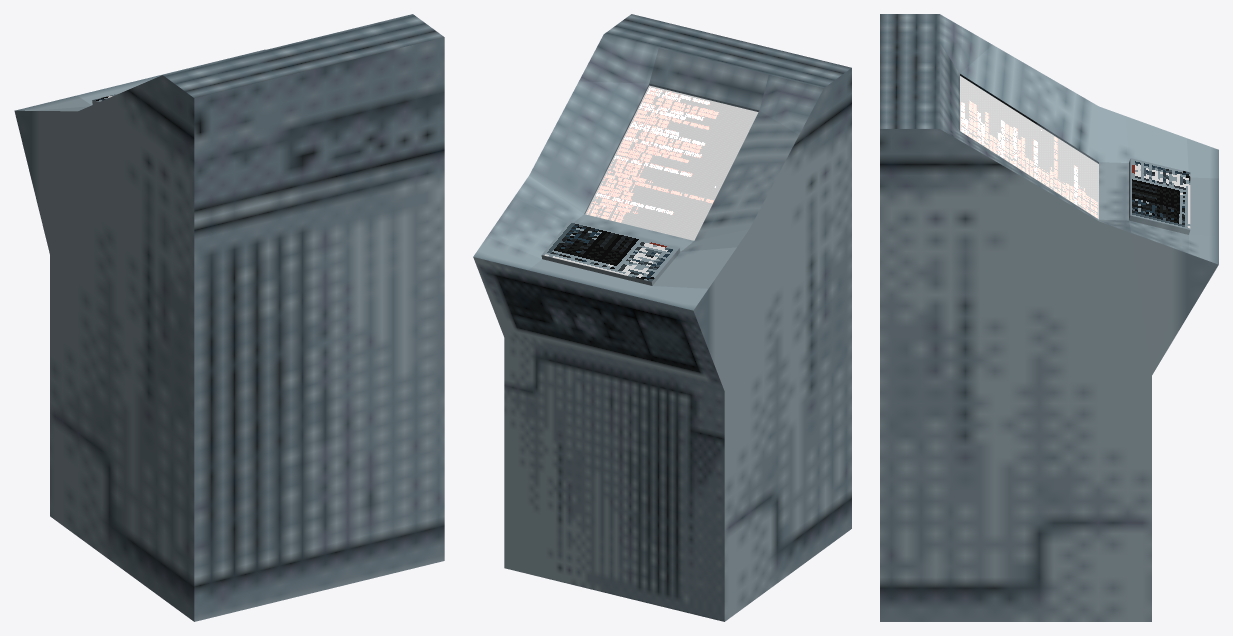
The model's file is Terminal.fbx.
3 renders of one model, left to right at view 1: azimuth 30°, elevation 25°; view 2: azimuth 150°, elevation 25°; view 3: azimuth 270°, elevation 25°, orthographic. The views are drawn at different scales.
Visible parts, largest first — view 1: Terminal; view 2: Terminal; view 3: Terminal.
Boxes of the visible parts, x1,y1,x2,y2 form: Terminal: [14, 14, 444, 621]; Terminal: [473, 14, 851, 621]; Terminal: [880, 14, 1218, 621].
Size of the model in its own units: 80 by 99.64 by 160.
3 materials, 2 textured.
